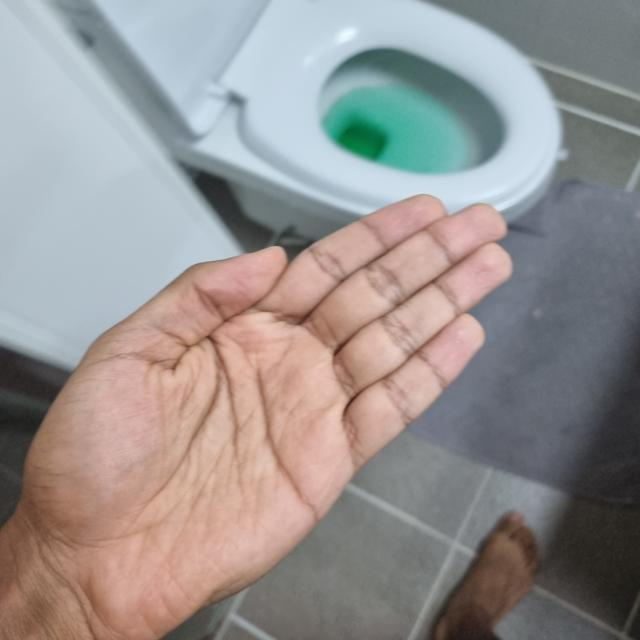Paper: (1, 197, 513, 637)
